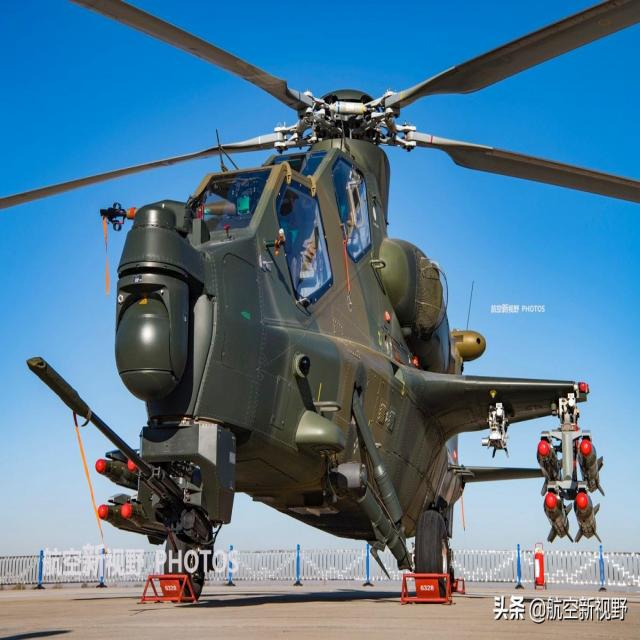MIL_HELO: (13, 0, 640, 606)
